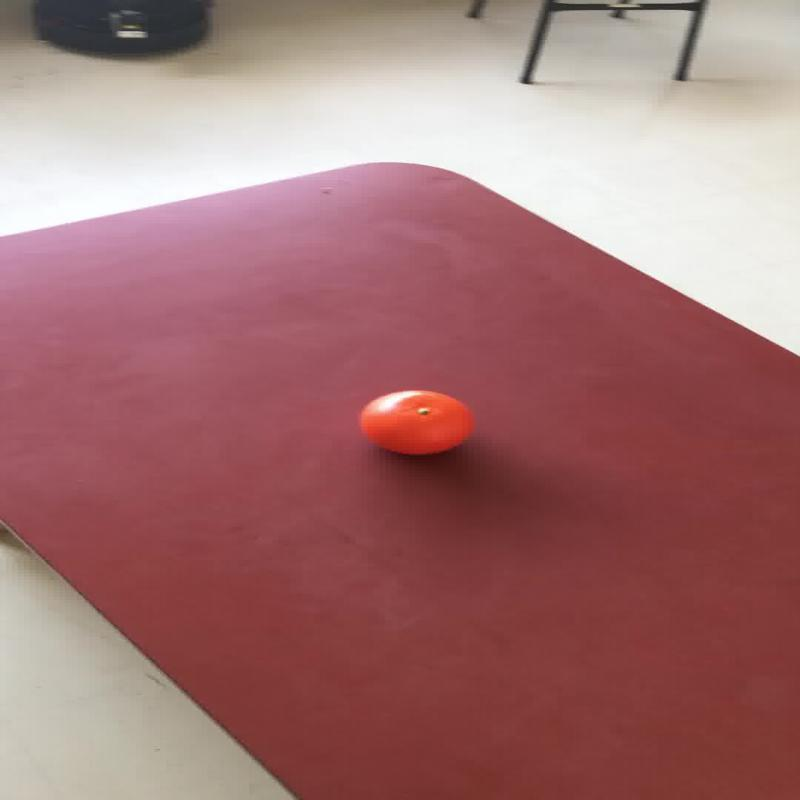orange: (358, 388, 474, 456)
